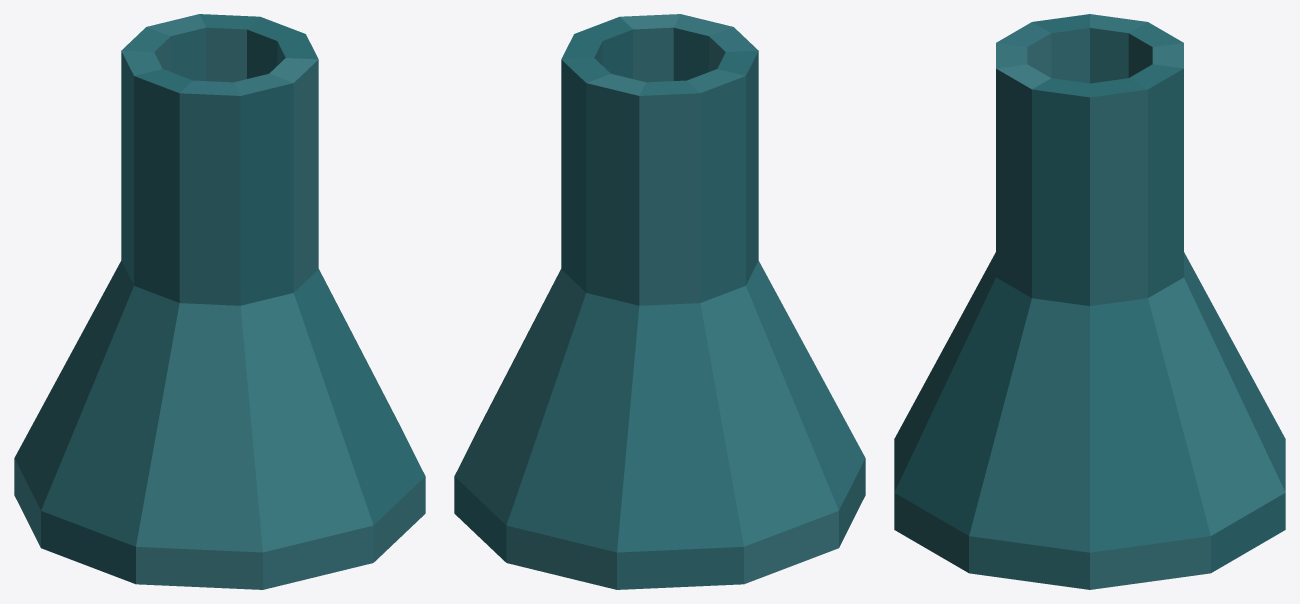
File: C05_BellHead.fbx
The picture shows the model from 3 angles, left to right: view 1: azimuth 30°, elevation 25°; view 2: azimuth 150°, elevation 25°; view 3: azimuth 270°, elevation 25°; orthographic projection.
Parts seen in each view (by area): view 1: C05_BellHead.001; view 2: C05_BellHead.001; view 3: C05_BellHead.001.
Part boxes in pixels (box(x1,y1,x2,y2)): C05_BellHead.001: box(14, 14, 425, 589); C05_BellHead.001: box(454, 14, 865, 589); C05_BellHead.001: box(894, 14, 1285, 589).
Bounding box in the file's own units: 0.25 × 0.3 × 0.2378.
